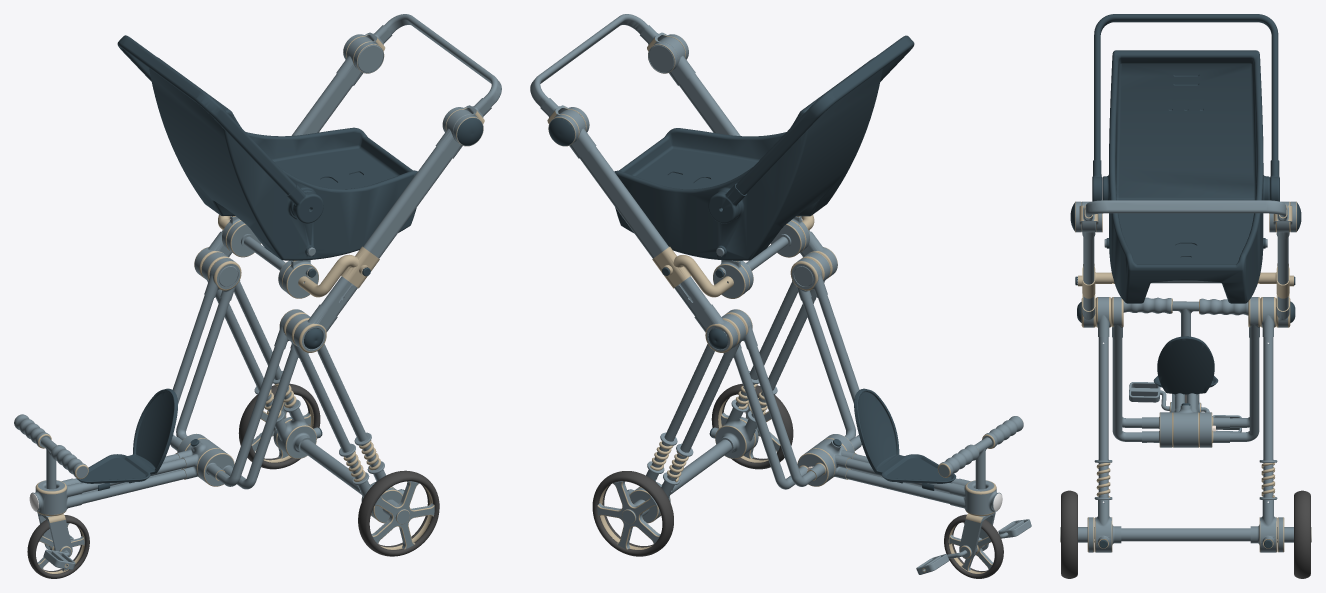
3 renders of one model, left to right at view 1: azimuth 30°, elevation 25°; view 2: azimuth 150°, elevation 25°; view 3: azimuth 270°, elevation 25°, orthographic. The views are drawn at different scales.
Visible parts, largest first — view 1: Carseat-2, Rear Wheel-2, Seat-2, Carseat-Hanndle Tube-1, Top Tube-2, Rear Wheel-3, Tube Idea 2-2, CarSeat Slider-R-1, Front Wheel-7, Tube Idea 2-6, Tube Idea 2-5, Hanndle Tube-2 (+23 smaller); view 2: Carseat-2, Rear Wheel-3, Seat-2, Carseat-Hanndle Tube-1, Top Tube-3, Rear Wheel-2, Front Wheel-7, Tube Idea 2-1, CarSeat Slider-9, Tube Idea 2-5, Tube Idea 2-6, Hanndle Tube-2 (+24 smaller); view 3: Carseat-2, Carseat-Hanndle Tube-1, Seat-2, Hanndle Tube-2, Rear Wheel-2, Rear Wheel-3, Rear Wheel Tube-1, Tube-2, Tube-3, Tube Idea 2-5, Tube Idea 2-6, Front Wheel Joint 2-1 (+22 smaller).
Boxes of the visible parts, x1,y1,x2,y2 form: Carseat-2: (149, 57, 417, 260); Rear Wheel-2: (358, 470, 439, 556); Seat-2: (76, 388, 177, 490); Carseat-Hanndle Tube-1: (117, 35, 296, 194); Top Tube-2: (321, 146, 452, 316); Rear Wheel-3: (238, 383, 320, 469); Tube Idea 2-2: (216, 346, 283, 486); CarSeat Slider-R-1: (298, 246, 379, 297); Front Wheel-7: (27, 515, 89, 578); Tube Idea 2-6: (237, 349, 298, 489); Tube Idea 2-5: (176, 298, 229, 440); Hanndle Tube-2: (384, 14, 501, 106); Carseat-2: (614, 57, 882, 260); Rear Wheel-3: (592, 471, 673, 556); Seat-2: (854, 388, 956, 490); Carseat-Hanndle Tube-1: (735, 35, 914, 194); Top Tube-3: (579, 146, 711, 316); Rear Wheel-2: (711, 383, 793, 469); Front Wheel-7: (944, 514, 1003, 578); Tube Idea 2-1: (748, 346, 815, 486); CarSeat Slider-9: (652, 246, 733, 297); Tube Idea 2-5: (734, 349, 795, 489); Tube Idea 2-6: (802, 298, 855, 440); Hanndle Tube-2: (530, 14, 647, 106); Carseat-2: (1102, 50, 1269, 303); Carseat-Hanndle Tube-1: (1094, 14, 1278, 159); Seat-2: (1153, 336, 1218, 394); Hanndle Tube-2: (1085, 200, 1286, 217); Rear Wheel-2: (1060, 490, 1094, 578); Rear Wheel-3: (1277, 490, 1311, 578); Rear Wheel Tube-1: (1121, 528, 1250, 541); Tube-2: (1263, 337, 1273, 511); Tube-3: (1098, 337, 1108, 511); Tube Idea 2-5: (1230, 338, 1259, 441); Tube Idea 2-6: (1112, 338, 1141, 441); Front Wheel Joint 2-1: (1172, 405, 1199, 447).
Size of the model in its own units: 1.1 by 1.19 by 0.569.
